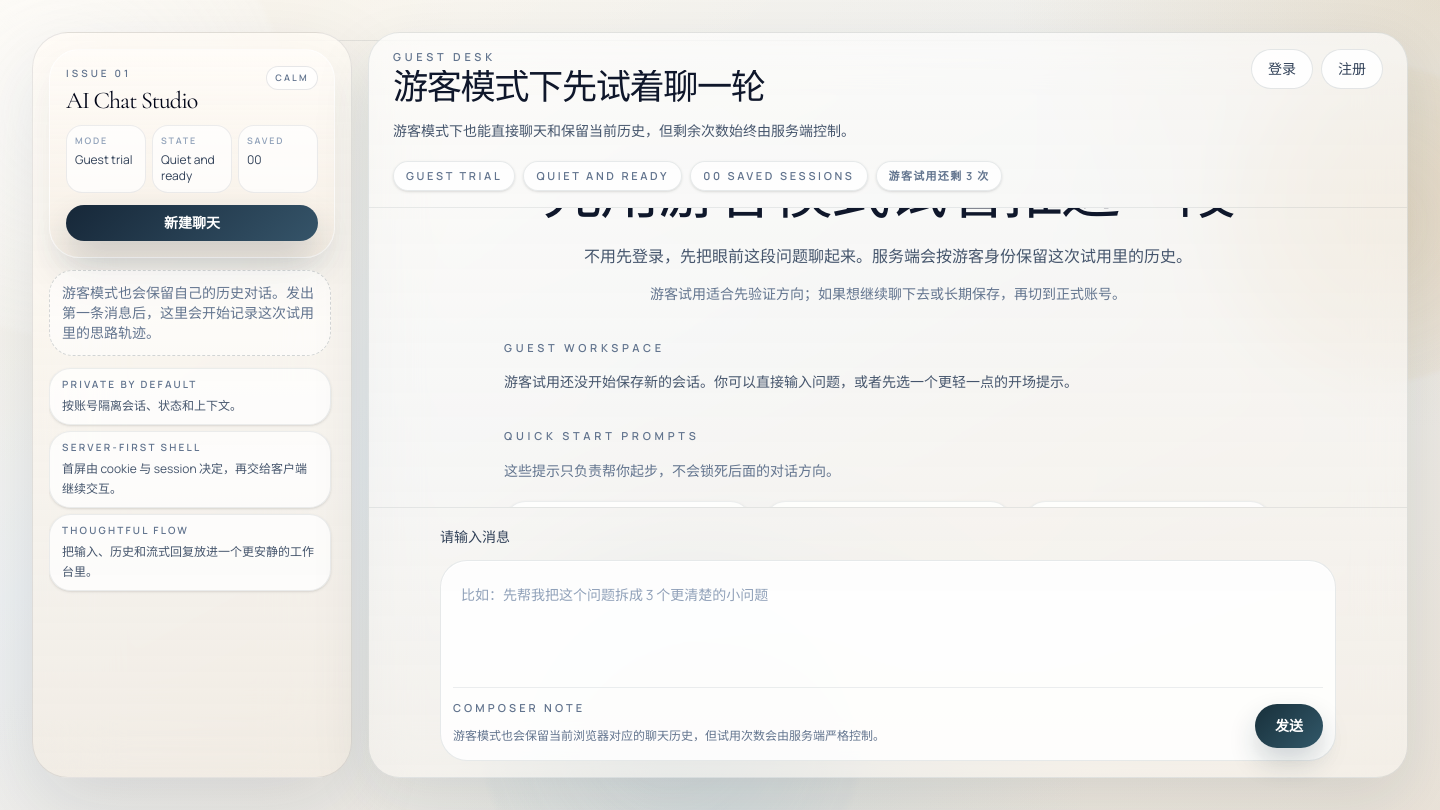
it: ChatApp › lets a guest send messages before the quota is exhausted
Type "游客测试消息" into the text box labelled "请输入消息".
click(888, 620); type("游客测试消息")  # box x1=453 y1=572 x2=1323 y2=668
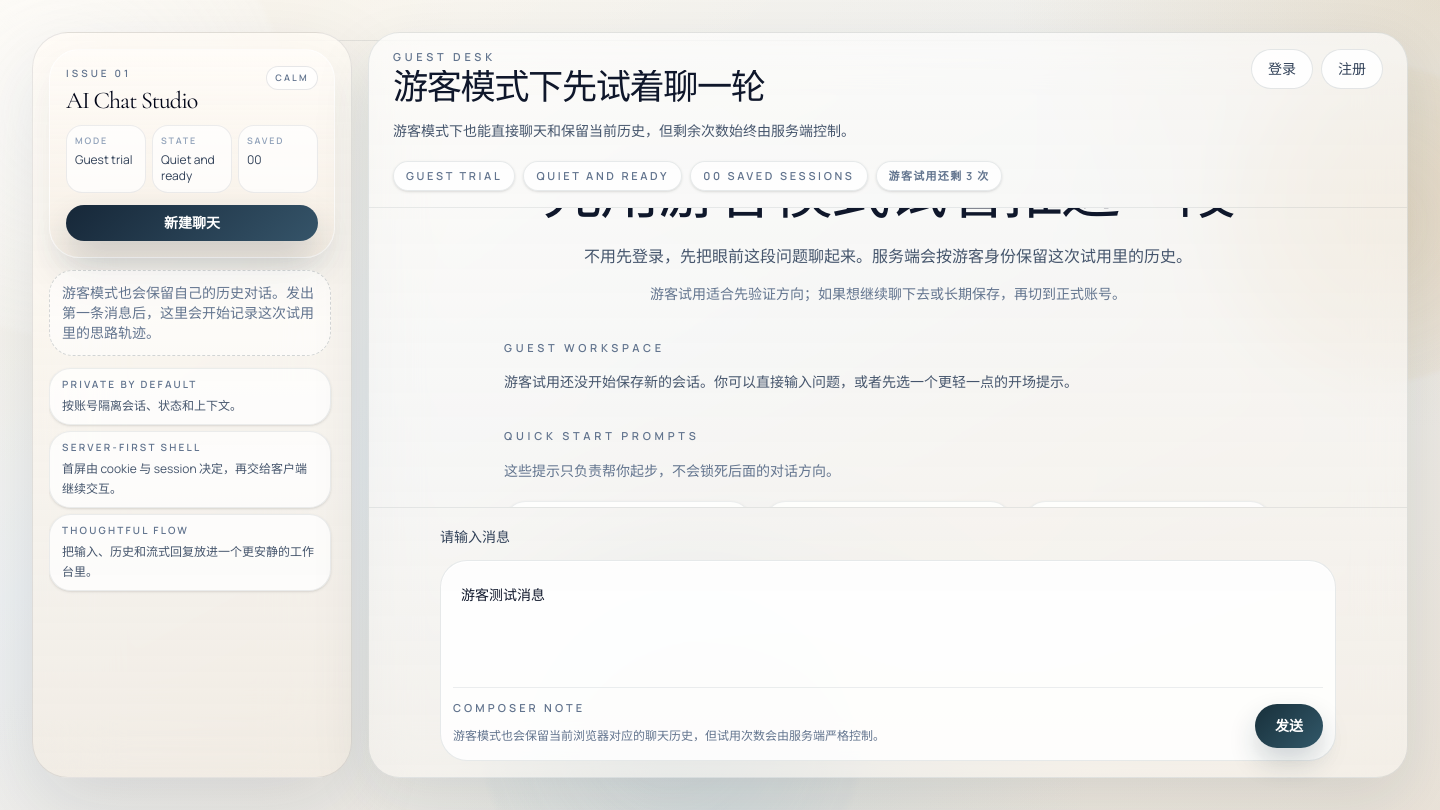
Click the button "发送".
click(1289, 726)  # box x1=1255 y1=704 x2=1323 y2=748
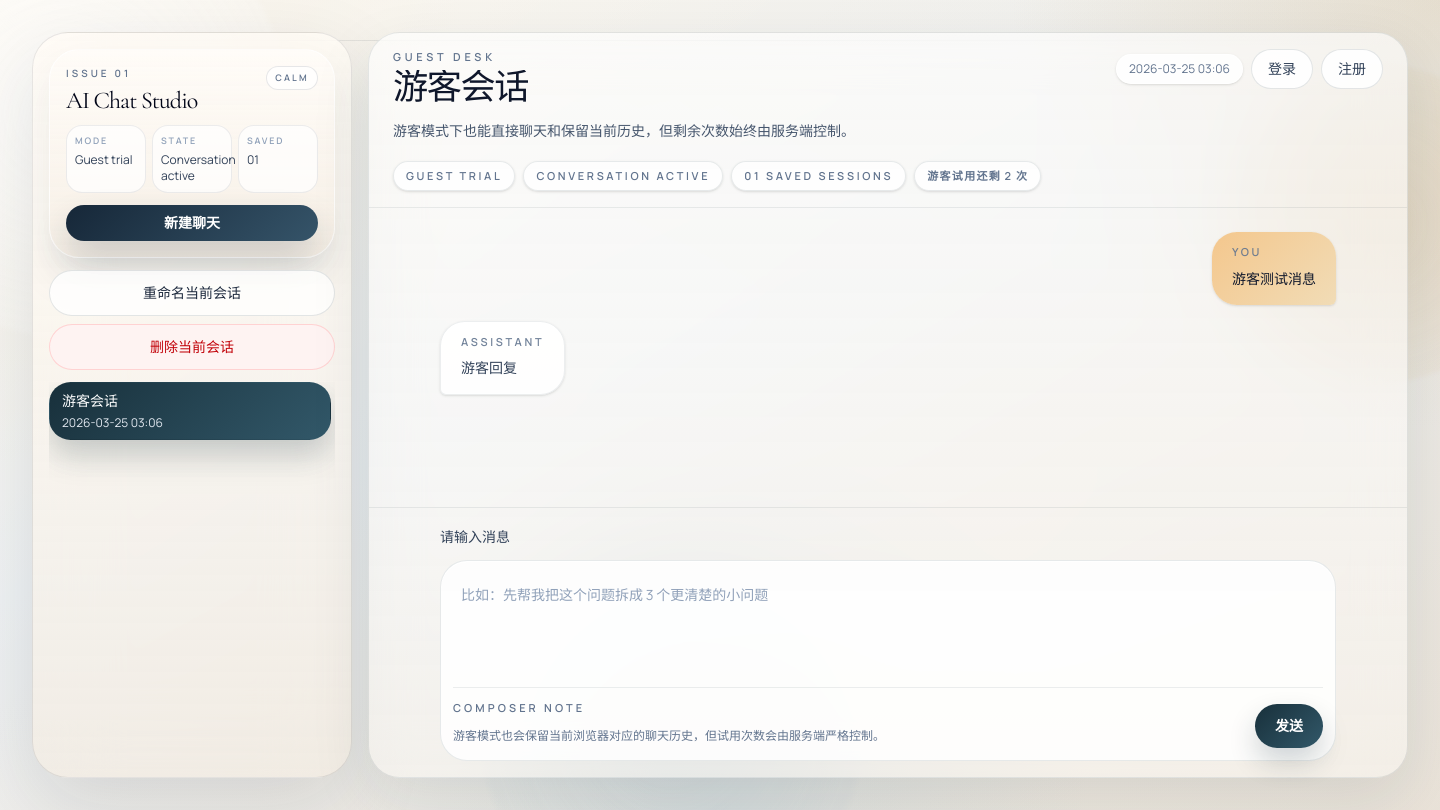
Expected: the text "游客测试消息" is shown, x1=1232 y1=265 x2=1316 y2=293
Expected: the text "游客回复" is shown, x1=461 y1=358 x2=517 y2=377
Expected: the text "游客试用还剩 2 次" is shown, x1=914 y1=161 x2=1041 y2=191
